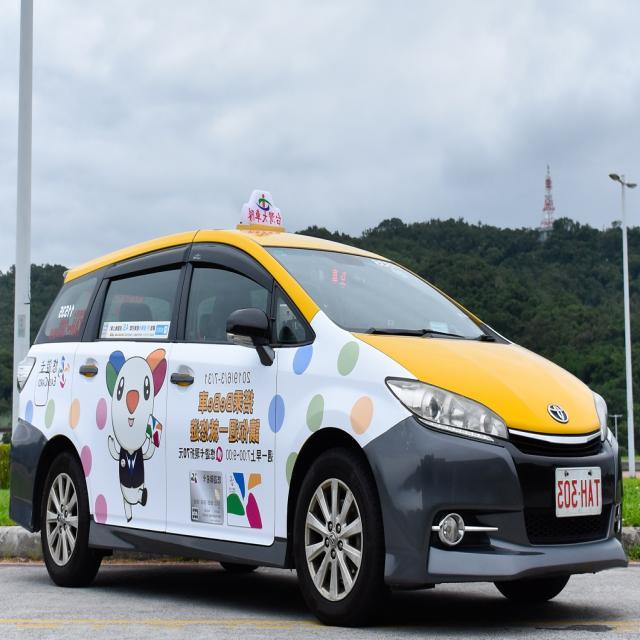taxi: (20, 188, 640, 623)
